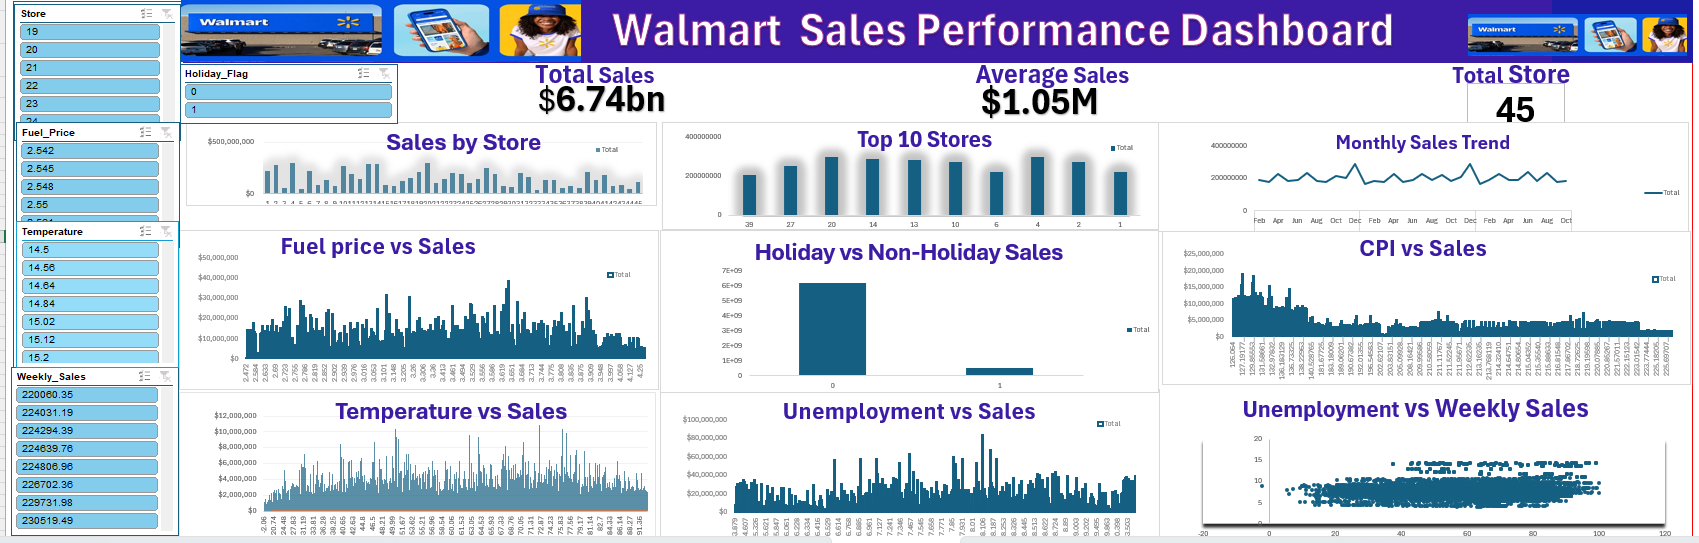

This screenshot's page, from the dashboard's own definition file:
{"tool":"powerbi","page":{"name":"Sales Dashboard","canvas":[1280,720],"ordinal":1},"visuals":[{"type":"lineChart","title":"Sales Trend","fields":{"Y":["Sum(Walmart_Sales.Weekly_Sales)"],"Category":["Walmart_Sales.Date.Variation.Date Hierarchy.Month"]},"box":[451.7,184.5,372.2,208.4],"z":0},{"type":"textbox","box":[0,706.2,960.7,349.9],"z":1000},{"type":"donutChart","title":"Holiday And Non-Holiday Sales","fields":{"Category":["Walmart_Sales.Holiday_Flag"],"Y":["Sum(Walmart_Sales.Weekly_Sales)"]},"box":[882.8,412,384.9,189.3],"z":2000},{"type":"barChart","title":"Bottom 10 Stores by Sales","fields":{"Category":["Walmart_Sales.Store"],"Y":["Sum(Walmart_Sales.Weekly_Sales)"]},"box":[0,758.3,528.3,281.7],"z":3000},{"type":"clusteredBarChart","title":"Top 10 Stores by Sales","fields":{"Category":["Walmart_Sales.Store"],"Y":["Sum(Walmart_Sales.Weekly_Sales)"]},"box":[368.3,791.7,448.3,265],"z":4000},{"type":"textbox","box":[380.2,0,513.8,65.2],"z":5000},{"type":"barChart","title":"Top 10 Stores By Sales","fields":{"Category":["Walmart_Sales.Store"],"Y":["Sum(Walmart_Sales.Weekly_Sales)"]},"box":[858.9,176.6,421.5,216.3],"z":6000},{"type":"cardVisual","fields":{"Data":["Sum(Walmart_Sales.Weekly_Sales)"]},"box":[117.7,65.2,227.5,111.3],"z":7000},{"type":"cardVisual","fields":{"Data":["Avg(Walmart_Sales.Weekly_Sales)"]},"box":[540.8,66.8,222.7,109.8],"z":8000},{"type":"cardVisual","fields":{"Data":["Count(Walmart_Sales.Store)"]},"box":[927.3,66.8,179.7,105],"z":9000},{"type":"clusteredBarChart","title":"Bottom 10 By Sales","fields":{"Y":["Sum(Walmart_Sales.Weekly_Sales)"],"Category":["Walmart_Sales.Store"]},"box":[15.9,427.9,375.4,189.3],"z":10000},{"type":"slicer","title":"Store Filter","fields":{"Values":["Walmart_Sales.Date"]},"box":[763.5,614,307,106.6],"z":11000},{"type":"lineStackedColumnComboChart","title":"Store Comparison","fields":{"Category":["Walmart_Sales.Store"],"Y":["Sum(Walmart_Sales.Weekly_Sales)"]},"box":[429.5,412,415.1,189.3],"z":12000},{"type":"lineChart","title":"Weekly Sales Trend overtime","fields":{"Y":["Sum(Walmart_Sales.Weekly_Sales)"],"Category":["Walmart_Sales.Date.Variation.Date Hierarchy.Year","Walmart_Sales.Date.Variation.Date Hierarchy.Quarter","Walmart_Sales.Date.Variation.Date Hierarchy.Month","Walmart_Sales.Date.Variation.Date Hierarchy.Day"]},"box":[15.9,214.7,364.2,200.4],"z":14000}]}

Visuals, with their boxes on the page's 1280x720 design canvas (x1, y1, x2, y2). These are canvas units, not pixel positions in the 1699x543 screenshot, which may show the page scaled, cropped or inside an application window:
"Sales Trend" lineChart: 452:184:824:393
textbox: 0:706:961:1056
"Holiday And Non-Holiday Sales" donutChart: 883:412:1268:601
"Bottom 10 Stores by Sales" barChart: 0:758:528:1040
"Top 10 Stores by Sales" clusteredBarChart: 368:792:817:1057
textbox: 380:0:894:65
"Top 10 Stores By Sales" barChart: 859:177:1280:393
cardVisual - Sum(Walmart_Sales.Weekly_Sales): 118:65:345:176
cardVisual - Avg(Walmart_Sales.Weekly_Sales): 541:67:764:177
cardVisual - Count(Walmart_Sales.Store): 927:67:1107:172
"Bottom 10 By Sales" clusteredBarChart: 16:428:391:617
"Store Filter" slicer: 764:614:1070:721
"Store Comparison" lineStackedColumnComboChart: 430:412:845:601
"Weekly Sales Trend overtime" lineChart: 16:215:380:415
